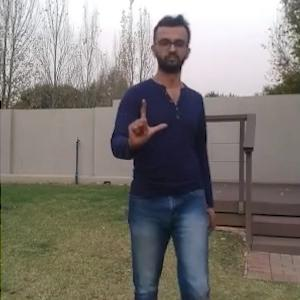land_hand: (123, 93, 168, 150)
